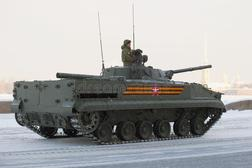bmp: (14, 62, 228, 143)
